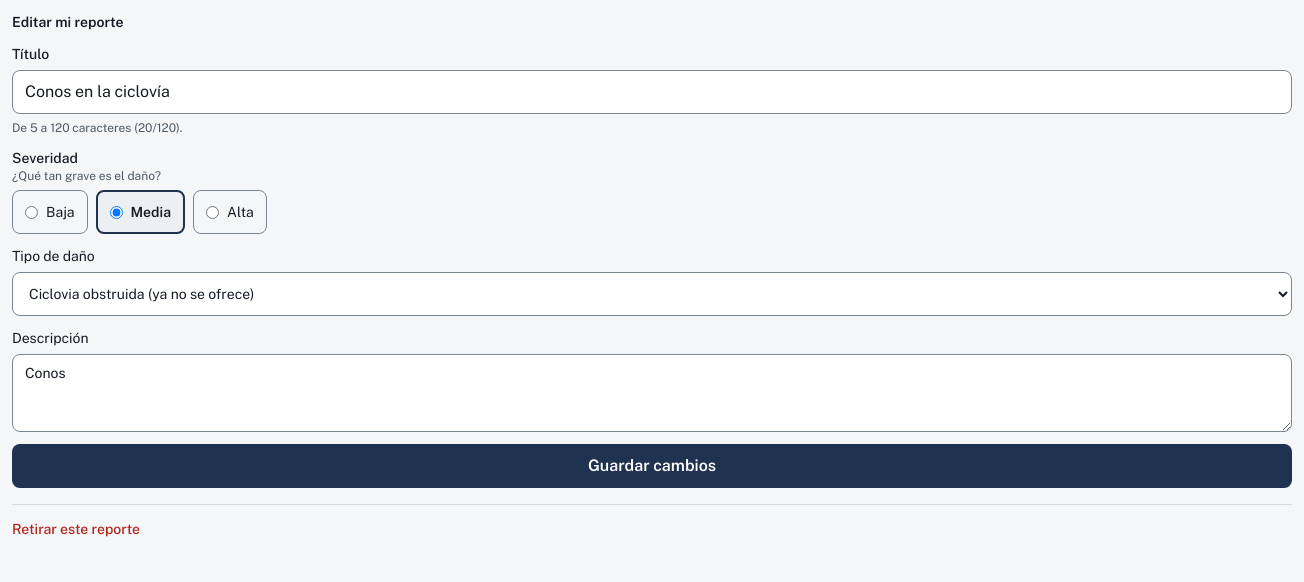
it: EditarReporte (US-08 con categoría desactivada, US-29) › la moderación (NC-10c) › 400 TEXTO_NO_PERMITIDO en la descripción: el error va en el campo, no arriba
The image size is (1304, 582).
Type " con una grosería" into the text box labelled "Descripción" at (652, 393), box [12,354,1292,432]
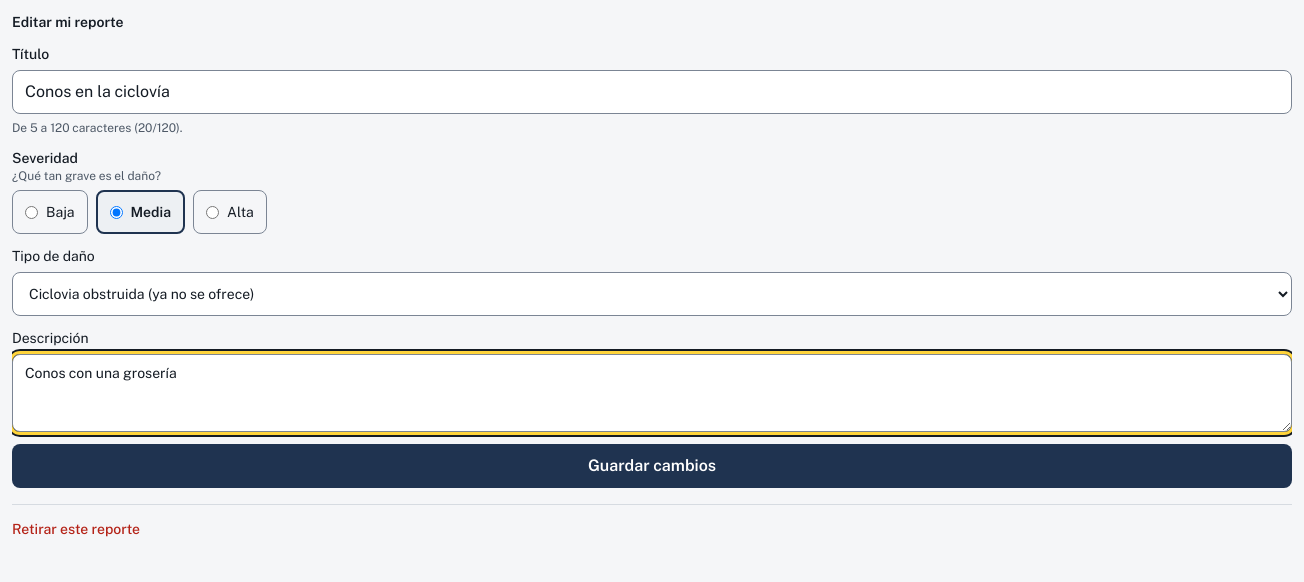
Click the button "Guardar cambios" at (652, 466), box [12,444,1292,488]
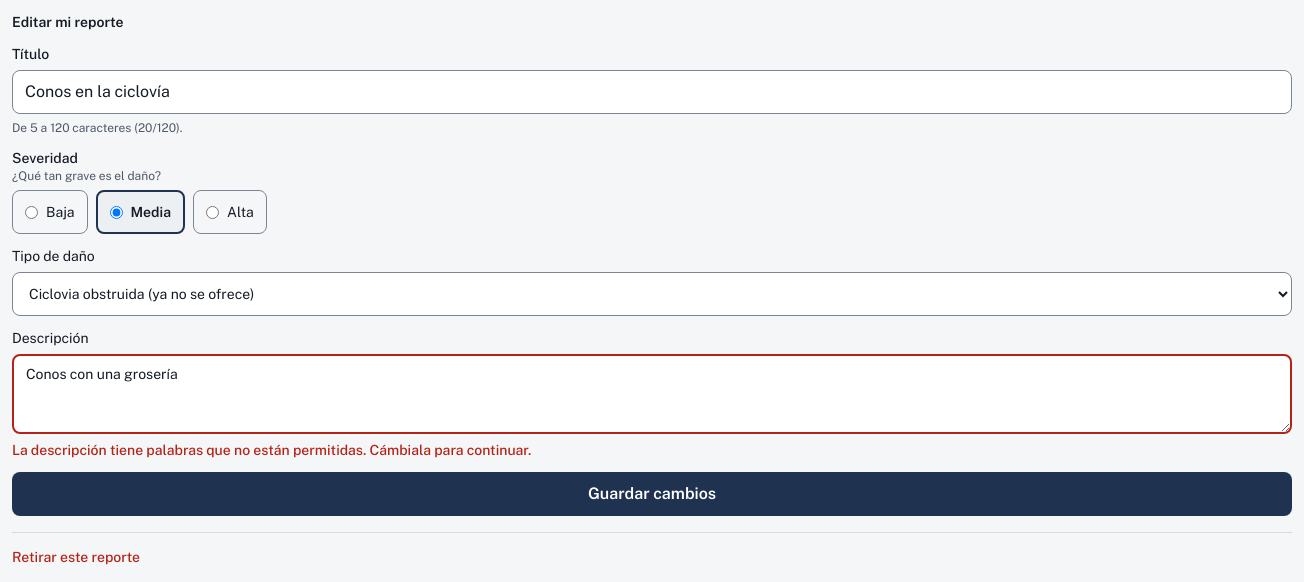
Check: the text box labelled "Descripción" holds "Conos con una grosería"
// Al cambiar lo escrito, el error ya no aplica.
Type "!" into the text box labelled "Descripción" at (652, 394), box [12,354,1292,434]
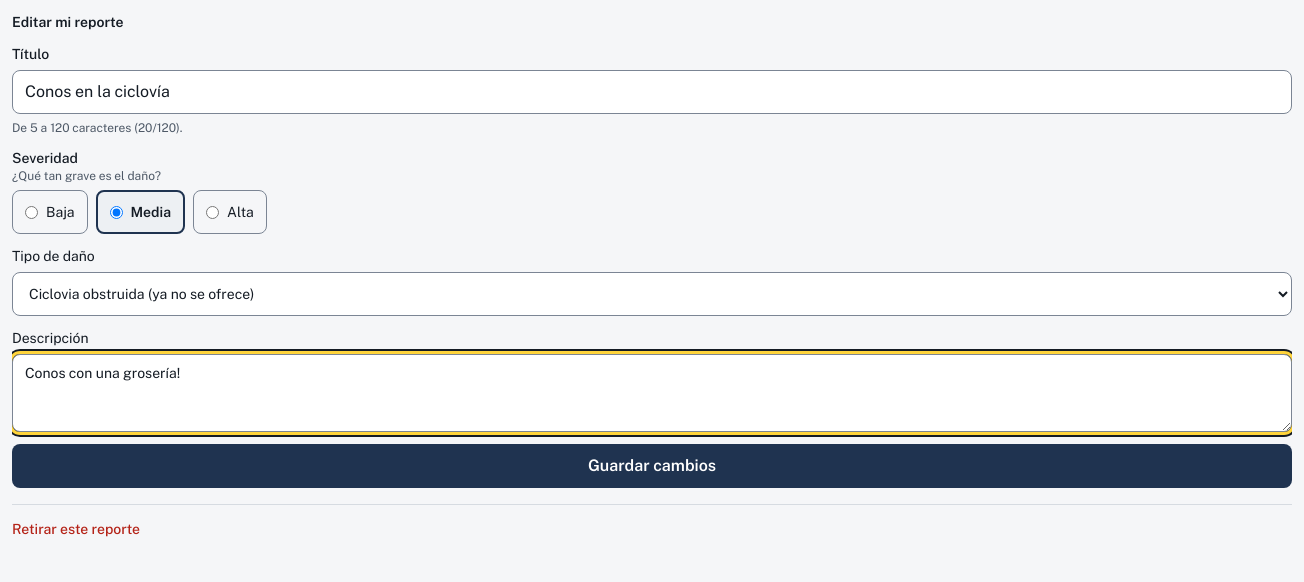
Check: the text "La descripción tiene palabras que no están permitidas. Cámbiala para continuar." is gone
